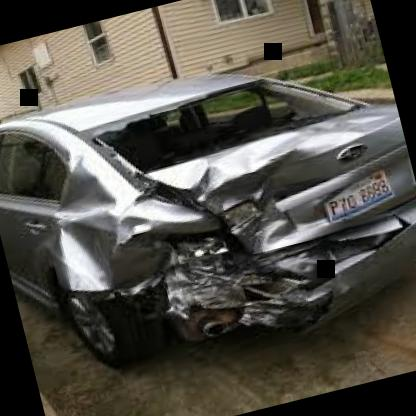accident: (45, 70, 416, 394)
